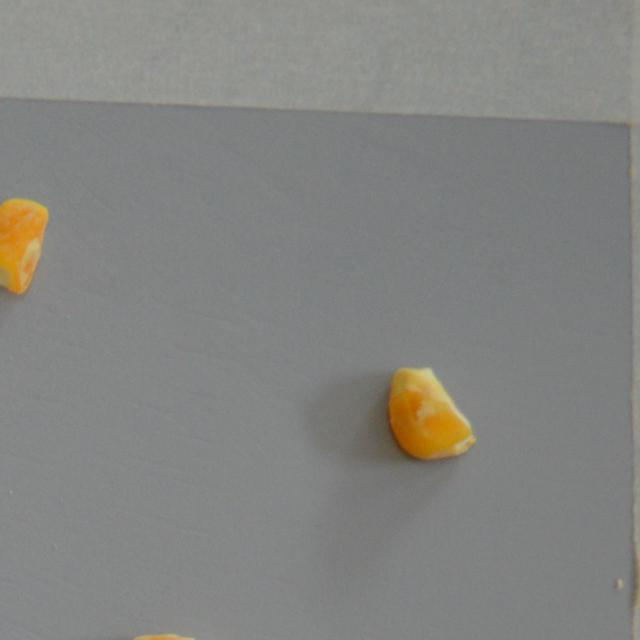dañado: (129, 630, 246, 640)
pelicula: (376, 350, 480, 466), (0, 188, 56, 296)
